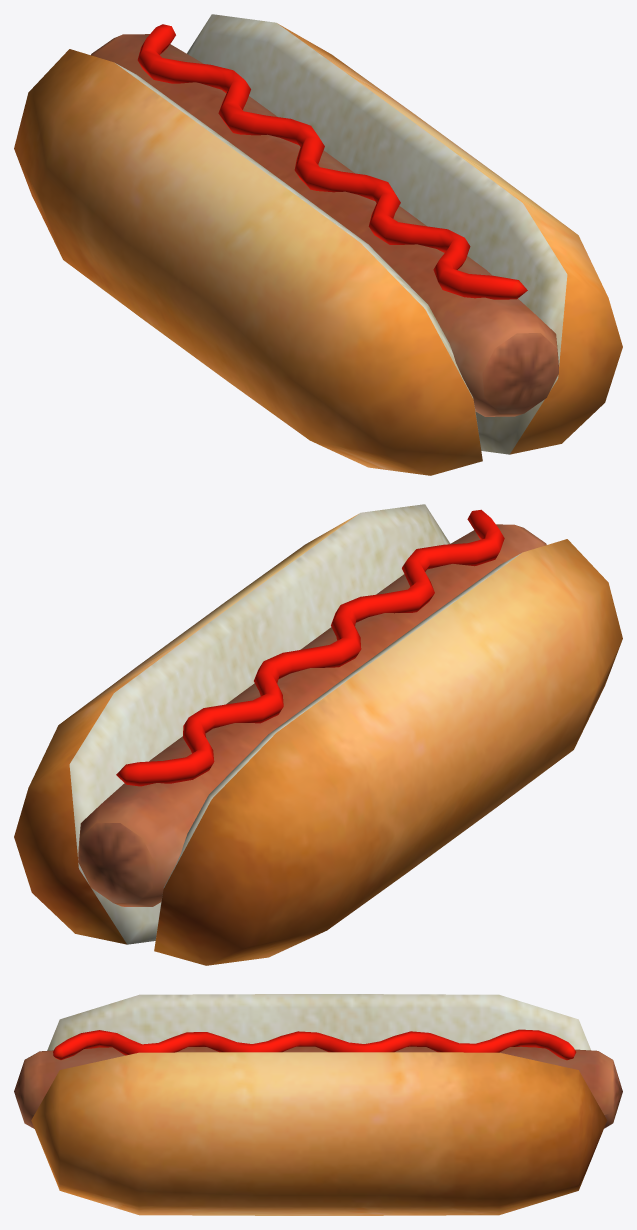
File: hotdog.glb
3 renders of one model, top to bottom at view 1: azimuth 30°, elevation 25°; view 2: azimuth 150°, elevation 25°; view 3: azimuth 270°, elevation 25°, orthographic. The views are drawn at different scales.
Parts seen in each view (by area): view 1: hotdog; view 2: hotdog; view 3: hotdog.
Part boxes in pixels (bbox=[...]): hotdog: bbox=[14, 14, 622, 475]; hotdog: bbox=[14, 504, 622, 965]; hotdog: bbox=[14, 994, 622, 1215].
Size of the model in its own units: 0.5221 by 0.3626 by 1.2.
1 material, 1 textured.
